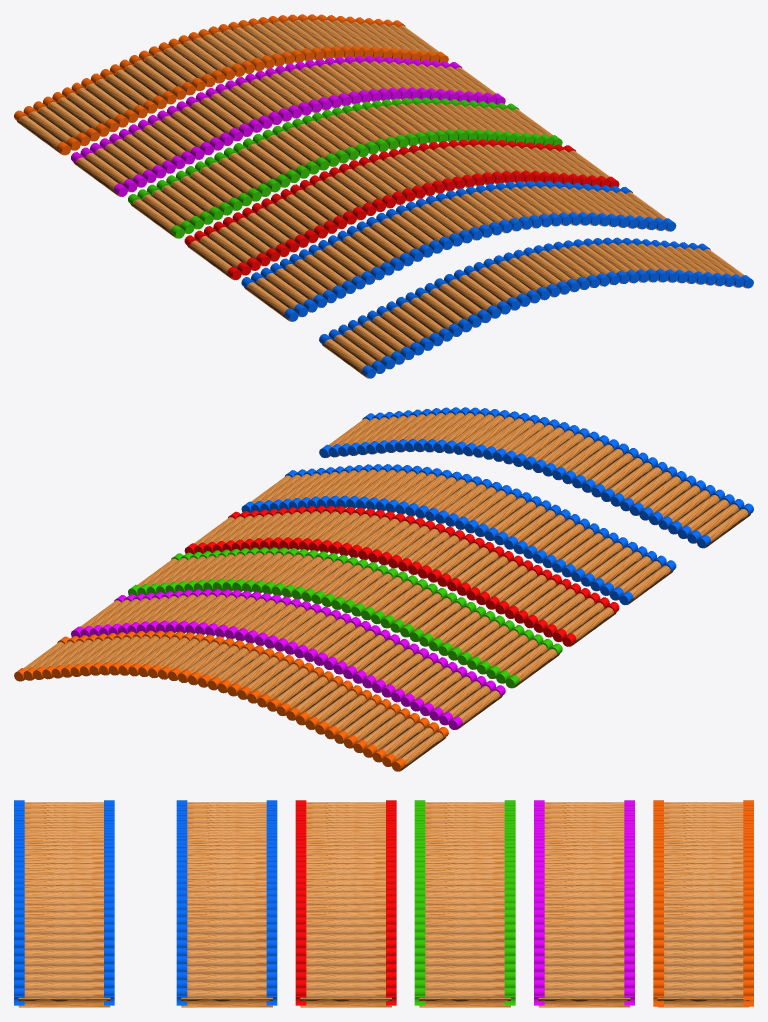
File: CẦU TRÒN.fbx
3 views of the same model, one above another, from view 1: azimuth 30°, elevation 25°; view 2: azimuth 150°, elevation 25°; view 3: azimuth 270°, elevation 25° (orthographic). The views are drawn at different scales.
Parts seen in each view (by area): view 1: Cloner_9, Cloner; view 2: Cloner_9, Cloner; view 3: Cloner_9, Cloner.
Part boxes in pixels (x1=…): Cloner_9: x1=14, y1=14, x2=676, y2=321; Cloner: x1=319, y1=237, x2=753, y2=378; Cloner_9: x1=14, y1=464, x2=676, y2=771; Cloner: x1=319, y1=407, x2=753, y2=548; Cloner_9: x1=176, y1=800, x2=753, y2=1007; Cloner: x1=14, y1=800, x2=114, y2=1007.
Size of the model in its own units: 472 by 58.1 by 746.
